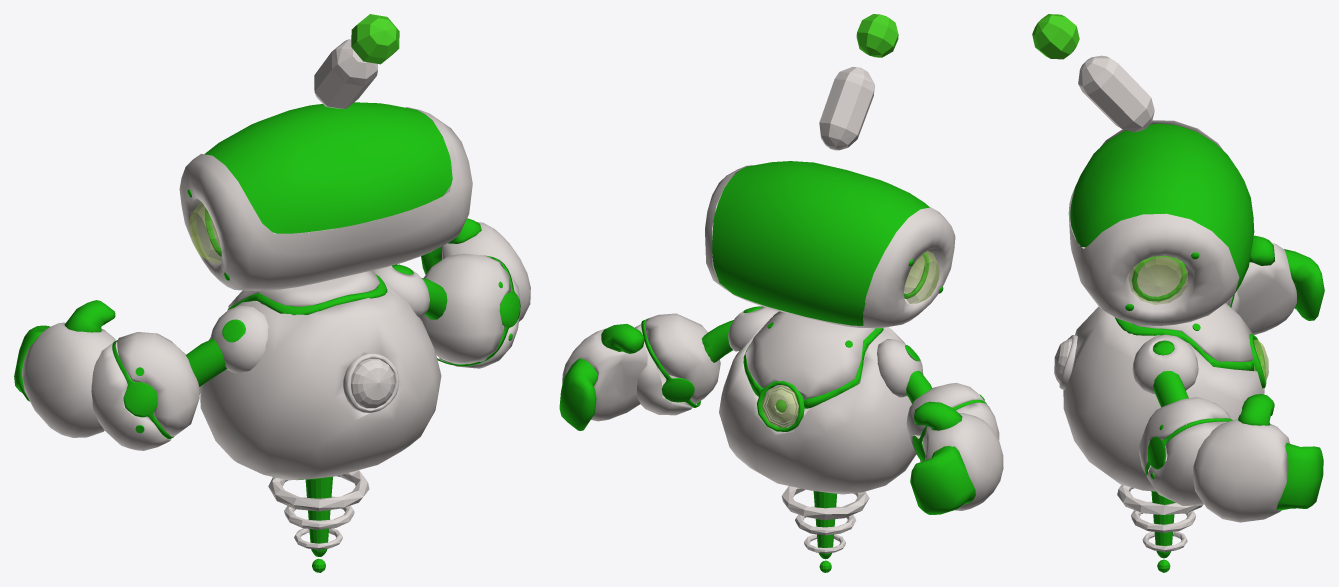
Rendered from ZTHopt.fbx.
3 views of the same model, side by side, from view 1: azimuth 30°, elevation 25°; view 2: azimuth 150°, elevation 25°; view 3: azimuth 270°, elevation 25° (orthographic). The views are drawn at different scales.
Visible parts, largest first — view 1: cuerpo n, Bolita, vidrios; view 2: cuerpo n, vidrios, Bolita; view 3: cuerpo n, vidrios, Bolita.
Boxes of the visible parts, x1,y1,x2,y2 form: cuerpo n: (14, 39, 530, 572); Bolita: (351, 14, 399, 64); vidrios: (189, 201, 221, 263); cuerpo n: (559, 67, 1003, 572); vidrios: (762, 251, 939, 428); Bolita: (856, 14, 898, 57); cuerpo n: (1054, 55, 1324, 572); vidrios: (1128, 256, 1268, 381); Bolita: (1032, 14, 1079, 59).
Bounding box in the file's own units: 417 × 494 × 236.
